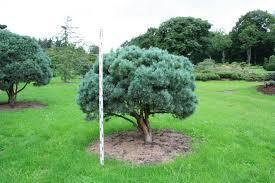tree: (72, 46, 203, 146), (1, 27, 55, 109)
